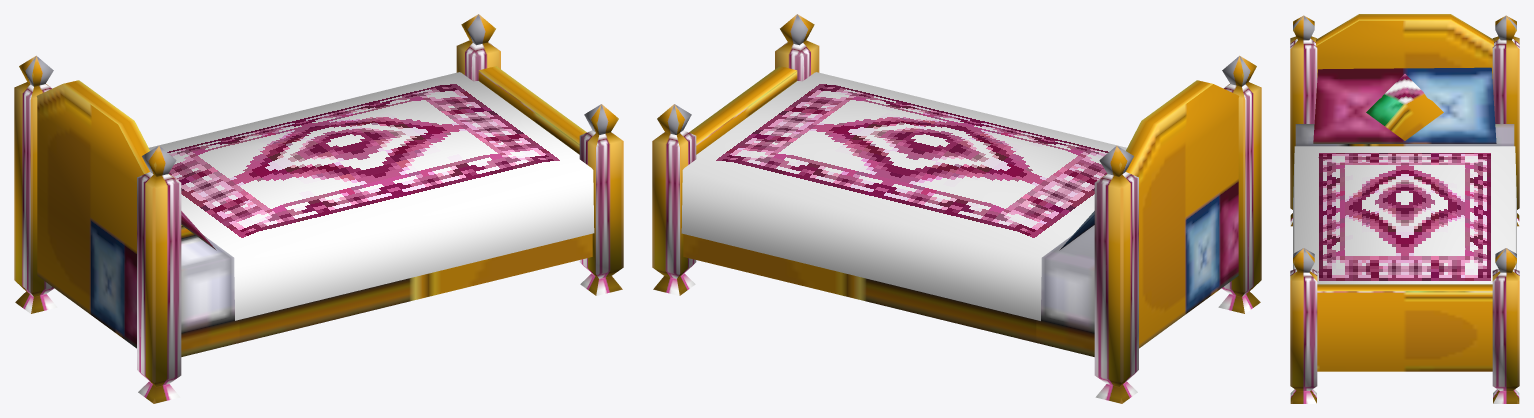
Rendered from rmk_cnt_bedS.dae.
3 views of the same model, side by side, from view 1: azimuth 30°, elevation 25°; view 2: azimuth 150°, elevation 25°; view 3: azimuth 270°, elevation 25° (orthographic). The views are drawn at different scales.
Parts seen in each view (by area): view 1: rmk_cnt_bedS; view 2: rmk_cnt_bedS; view 3: rmk_cnt_bedS.
Boxes of the visible parts, bbox=[...] form: rmk_cnt_bedS: bbox=[14, 14, 623, 403]; rmk_cnt_bedS: bbox=[652, 14, 1261, 403]; rmk_cnt_bedS: bbox=[1290, 14, 1519, 403].
Bounding box in the file's own units: 61.45 × 31.14 × 31.56.
2 materials, 2 textured.
